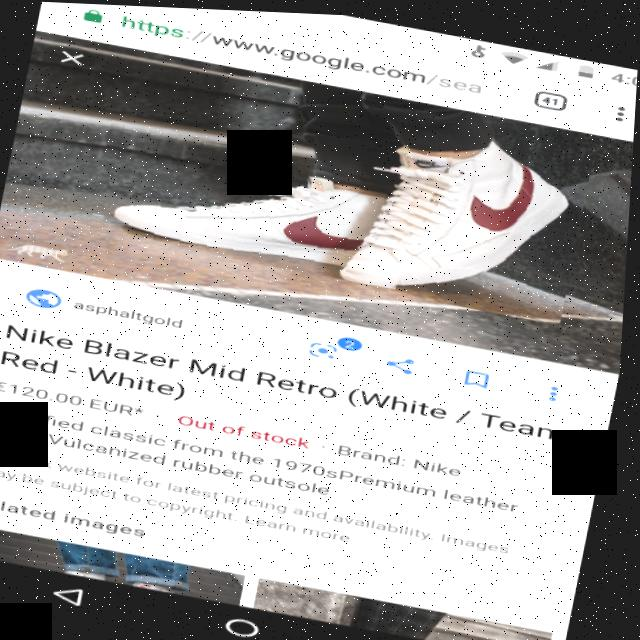shoe: (313, 104, 597, 320), (90, 119, 426, 288)
